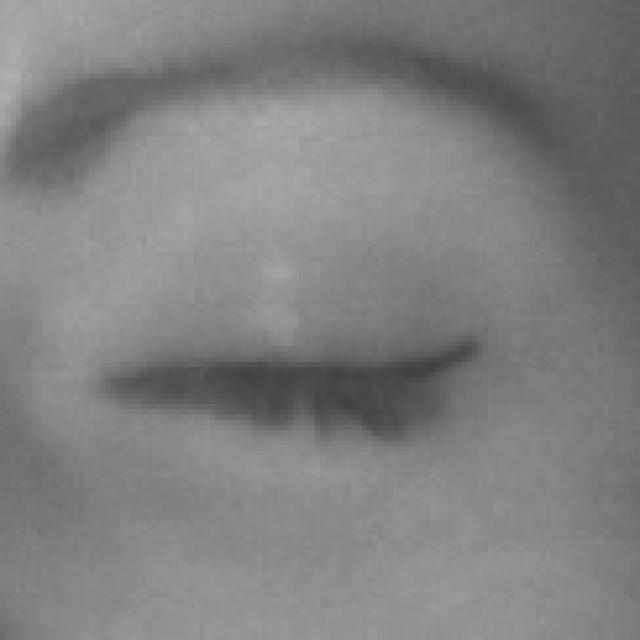Eyeclosed: (113, 217, 486, 578)
